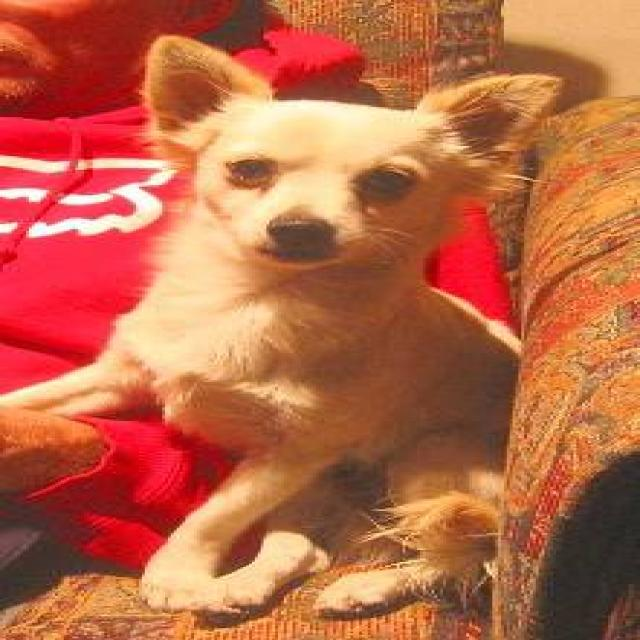dog: (0, 32, 562, 618)
